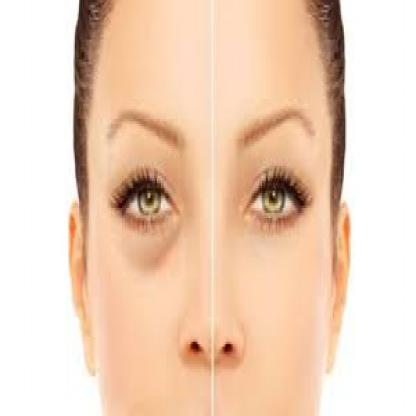darkspot: (245, 32, 284, 181), (155, 35, 178, 127), (221, 38, 242, 137), (101, 356, 117, 406), (194, 279, 206, 321)
